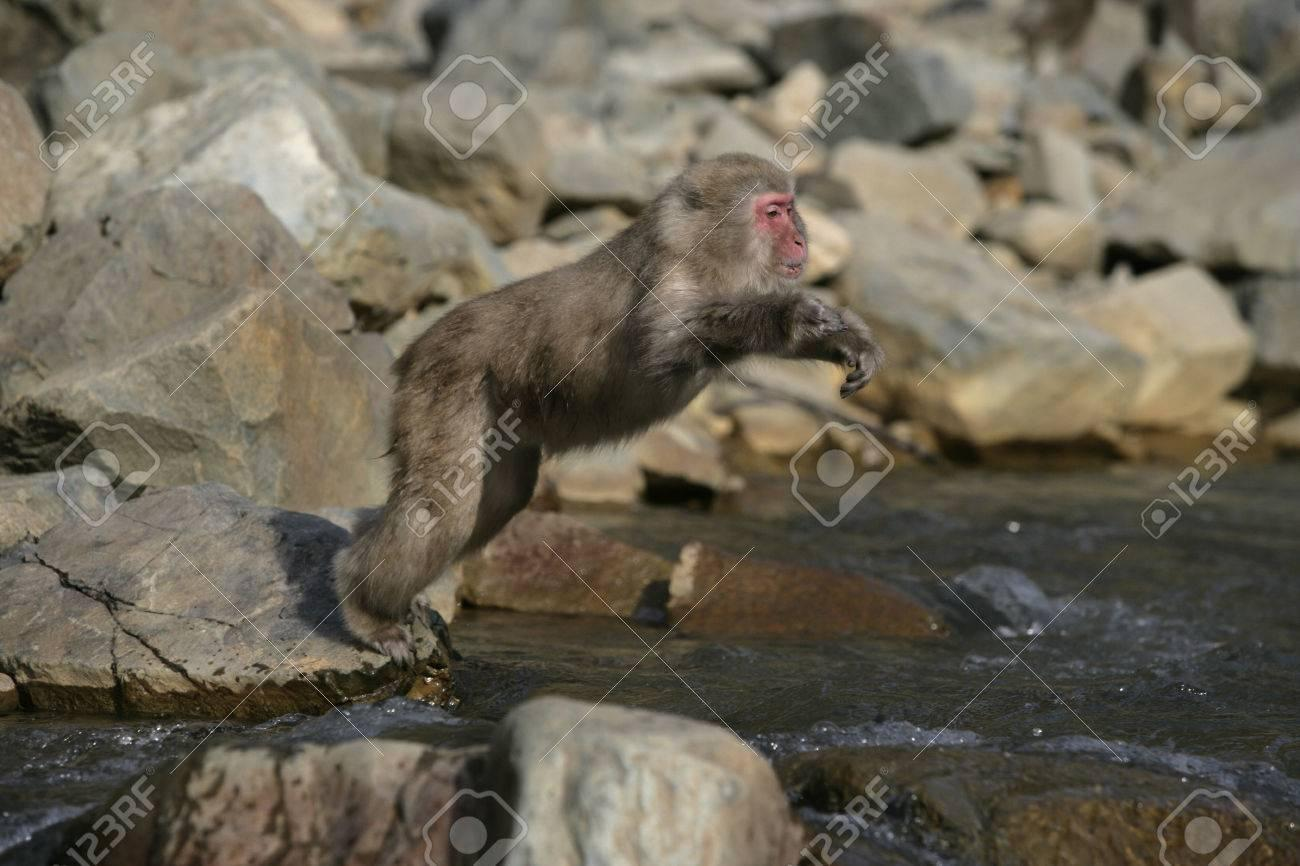monkey: (346, 157, 922, 622)
